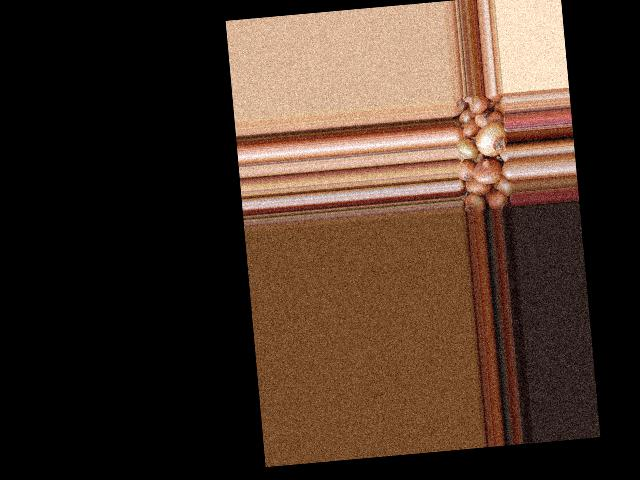onion: (465, 193, 486, 213)
